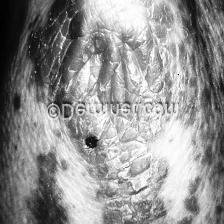Non-Cancerous Skin Condition: (34, 0, 206, 87), (96, 171, 224, 224), (18, 150, 72, 224), (79, 120, 162, 154)
